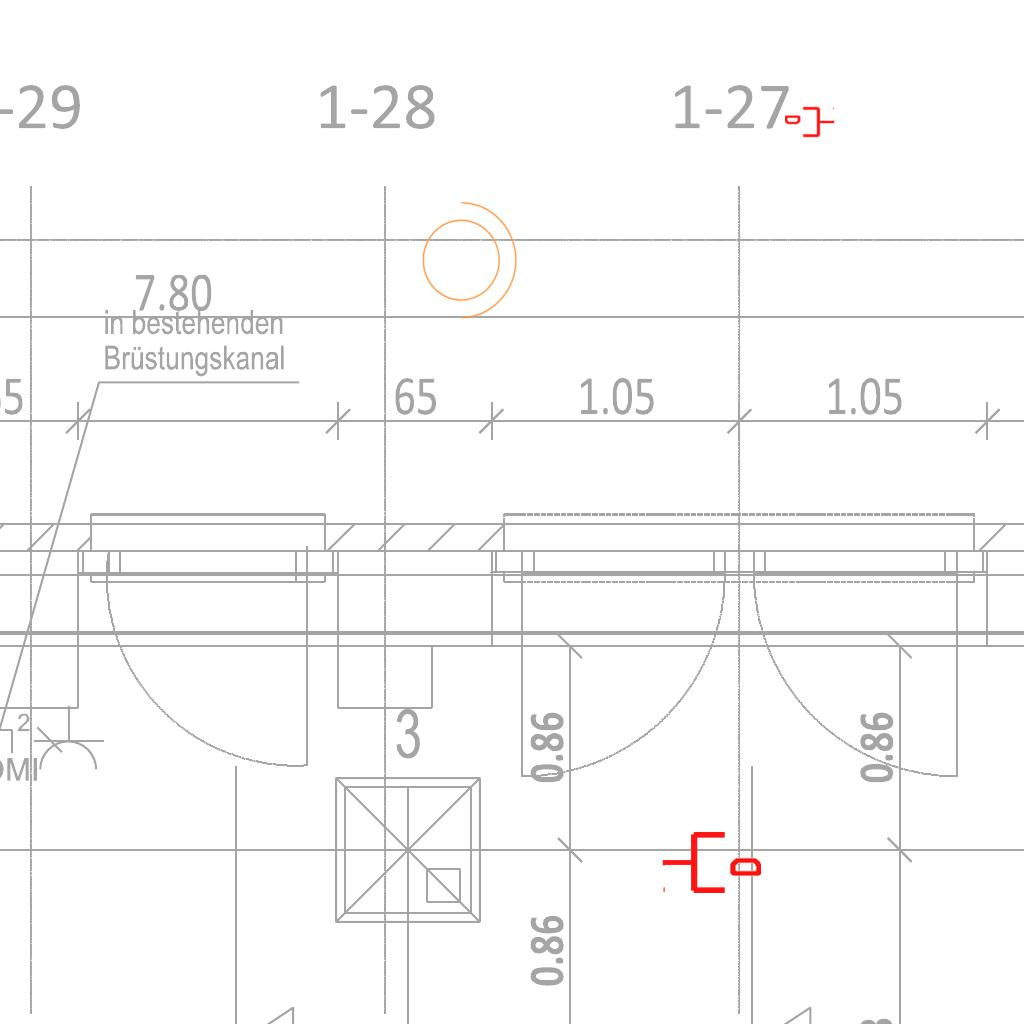Datenanschluss_einfach: (661, 828, 761, 897), (785, 105, 835, 139)
Scheinwerfer_fuer_Alarmbeleuchtung: (410, 191, 522, 323)
